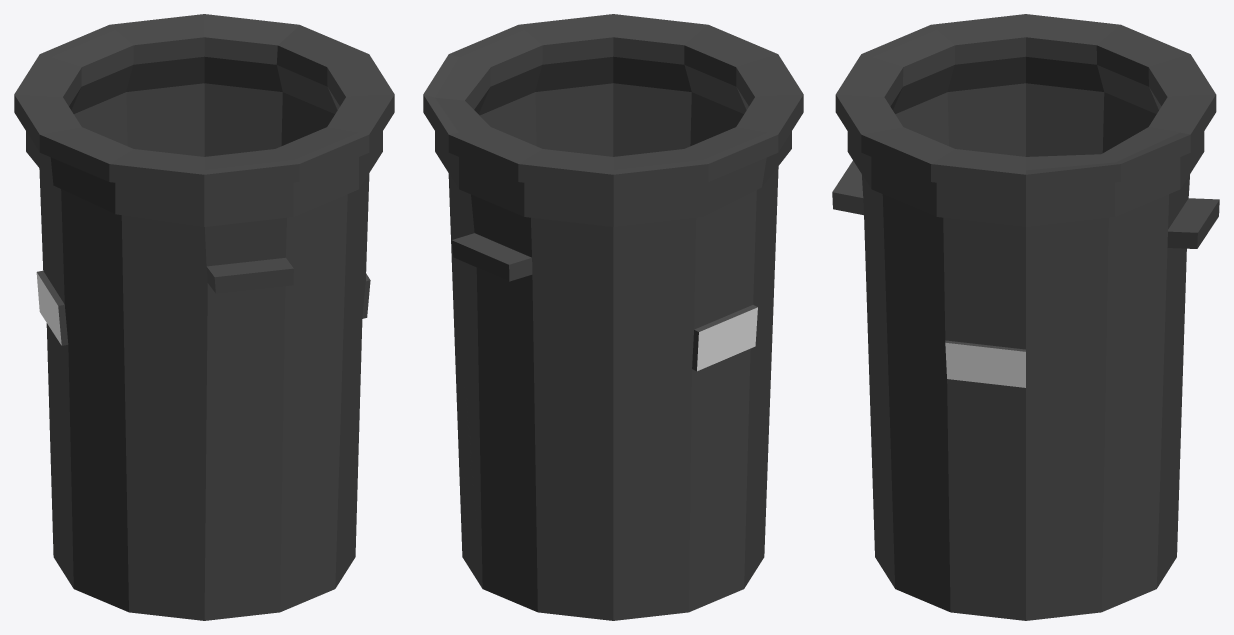
The model's file is TrashCan.fbx.
The picture shows the model from 3 angles, left to right: view 1: azimuth 30°, elevation 25°; view 2: azimuth 150°, elevation 25°; view 3: azimuth 270°, elevation 25°; orthographic projection.
Parts seen in each view (by area): view 1: TrashNew; view 2: TrashNew; view 3: TrashNew.
Part boxes in pixels (x1=…): TrashNew: x1=14, y1=14, x2=394, y2=620; TrashNew: x1=423, y1=14, x2=803, y2=620; TrashNew: x1=832, y1=14, x2=1219, y2=620.
Bounding box in the file's own units: 0.9056 × 0.9224 × 1.22.
